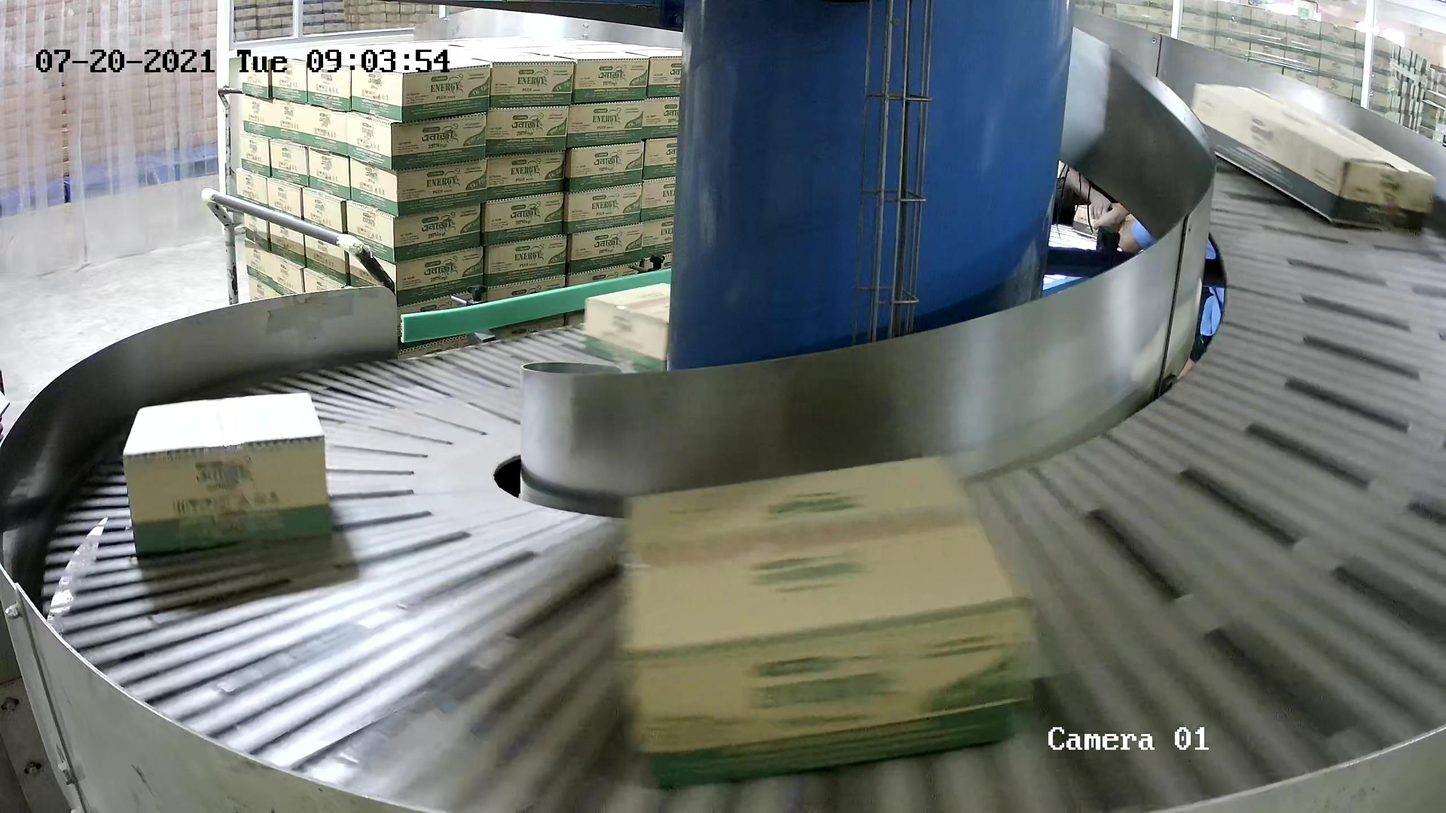Box: (611, 451, 1037, 792), (1191, 81, 1436, 234), (121, 391, 332, 559), (583, 282, 671, 373)
